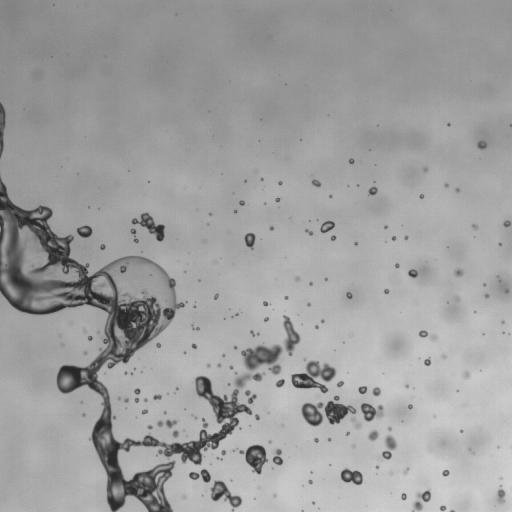droplet: (290, 360, 336, 393), (210, 480, 242, 511), (239, 444, 267, 474), (361, 403, 383, 421), (340, 468, 362, 485), (189, 469, 210, 482), (77, 225, 92, 237), (244, 233, 255, 249), (320, 221, 334, 233), (496, 486, 505, 503), (368, 429, 378, 441), (477, 140, 486, 149), (368, 186, 377, 195), (312, 179, 321, 187), (408, 269, 417, 277), (275, 379, 284, 387), (358, 386, 367, 394), (372, 387, 380, 396), (454, 269, 463, 276), (503, 220, 511, 227), (462, 371, 470, 378), (442, 469, 449, 476), (424, 357, 430, 365), (305, 229, 312, 235), (336, 381, 343, 387), (134, 388, 140, 395), (172, 430, 178, 437), (403, 467, 409, 474), (250, 331, 258, 336), (153, 394, 161, 399), (346, 292, 352, 298), (440, 505, 446, 511), (262, 301, 269, 306), (401, 493, 406, 500), (100, 244, 105, 250), (191, 343, 197, 348), (141, 409, 147, 414), (254, 414, 259, 420), (349, 158, 354, 163), (275, 197, 280, 202), (239, 200, 244, 205), (472, 224, 477, 229), (331, 235, 336, 240), (295, 276, 300, 281), (384, 288, 389, 293), (484, 293, 489, 298), (454, 296, 459, 301), (134, 397, 139, 402), (221, 450, 226, 455), (395, 263, 399, 268), (214, 294, 218, 299), (442, 354, 446, 359), (408, 404, 412, 409), (147, 425, 152, 429), (423, 167, 427, 171), (278, 181, 282, 185), (444, 183, 448, 187), (455, 188, 459, 192), (419, 194, 423, 198), (269, 226, 273, 230), (404, 235, 408, 239), (392, 236, 396, 240), (264, 317, 268, 321), (88, 336, 92, 340), (156, 343, 160, 347), (206, 363, 210, 367), (217, 363, 221, 367), (229, 365, 233, 369), (124, 398, 128, 402), (314, 438, 318, 442), (308, 480, 312, 484), (505, 289, 508, 293), (233, 345, 236, 349), (83, 351, 87, 354), (192, 415, 196, 418), (346, 431, 349, 435), (389, 471, 393, 474), (309, 282, 312, 285), (321, 319, 324, 322), (315, 325, 318, 328), (83, 329, 86, 332), (405, 384, 408, 387), (144, 398, 147, 401), (388, 427, 391, 430), (376, 465, 379, 468), (260, 178, 263, 180), (329, 195, 332, 197), (209, 212, 211, 215), (384, 226, 387, 228), (498, 243, 501, 245), (324, 278, 327, 280), (285, 296, 287, 299), (307, 303, 310, 305), (97, 331, 100, 333), (222, 354, 225, 356), (124, 372, 127, 374), (118, 397, 120, 400), (460, 430, 463, 432), (328, 438, 331, 440), (352, 445, 355, 447), (233, 449, 236, 451), (217, 457, 220, 459), (447, 123, 449, 125), (235, 210, 237, 212), (355, 242, 357, 244), (502, 321, 504, 323), (228, 383, 230, 385), (317, 394, 319, 396), (164, 411, 166, 413), (183, 495, 185, 497), (274, 494, 276, 496), (312, 502, 314, 504)
ligament: (0, 177, 299, 511), (301, 394, 361, 429), (131, 212, 164, 241), (411, 489, 430, 511), (380, 435, 397, 459), (0, 102, 5, 156), (418, 330, 437, 341), (157, 419, 177, 428), (273, 448, 283, 465), (130, 228, 138, 242), (191, 326, 199, 330), (449, 510, 454, 511)
